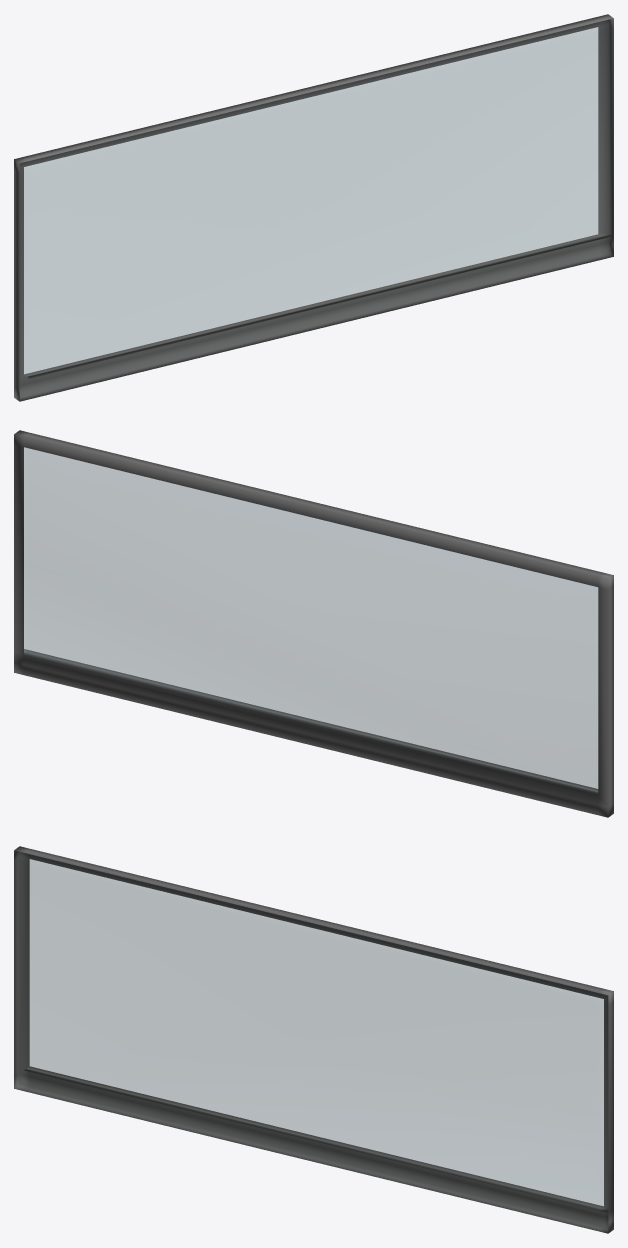
The model's file is sidingstraight.fbx.
3 views of the same model, one above another, from view 1: azimuth 30°, elevation 25°; view 2: azimuth 150°, elevation 25°; view 3: azimuth 330°, elevation 25° (orthographic).
Visible parts, largest first — view 1: SidingStraight; view 2: SidingStraight; view 3: SidingStraight.
Part boxes in pixels (x1,y1,x2,y2): SidingStraight: (14, 14, 613, 401); SidingStraight: (14, 430, 613, 817); SidingStraight: (14, 846, 613, 1233).
Bounding box in the file's own units: 30 × 11.5 × 0.5.
